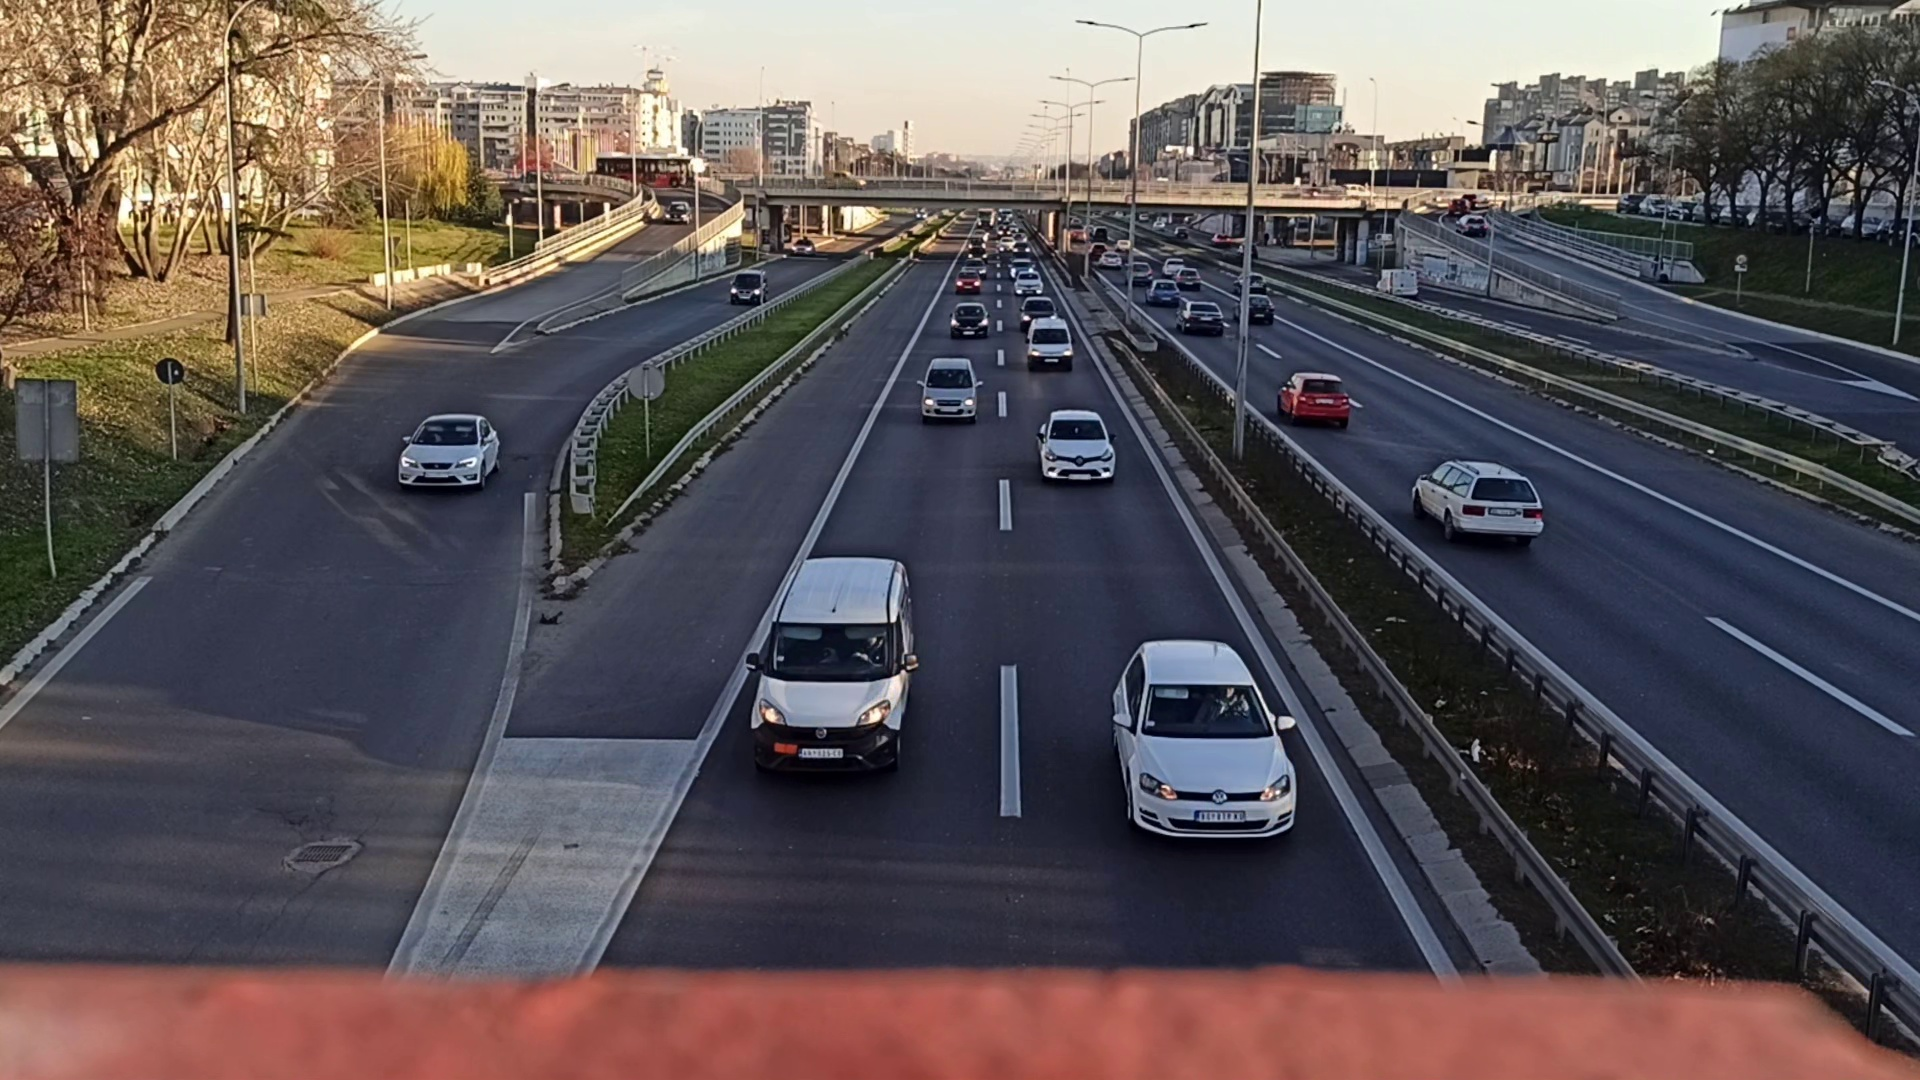car: (1106, 640, 1299, 852), (1410, 458, 1545, 549), (396, 411, 502, 493), (1036, 407, 1116, 492), (1276, 369, 1350, 430), (920, 357, 978, 421), (1025, 316, 1075, 371), (1178, 301, 1222, 334), (949, 303, 989, 339), (731, 269, 766, 303), (1145, 278, 1178, 301), (1014, 272, 1043, 295), (1174, 266, 1199, 289), (955, 272, 978, 293)
van: (752, 554, 916, 783)
